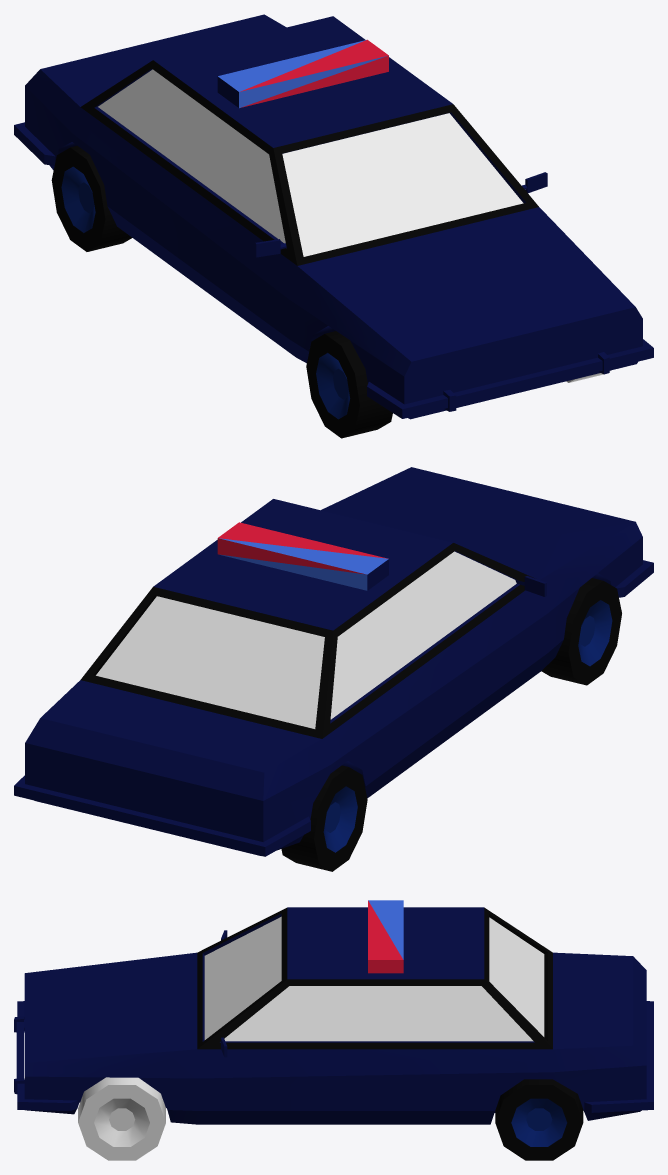
The model's file is policecar.fbx.
The picture shows the model from 3 angles, top to bottom: view 1: azimuth 30°, elevation 25°; view 2: azimuth 150°, elevation 25°; view 3: azimuth 270°, elevation 25°; orthographic projection. The views are drawn at different scales.
Parts seen in each view (by area): view 1: police_car, Object015, Object016; view 2: police_car, Object015, Object016; view 3: police_car, Object005, Object017.
Part boxes in pixels (box(x1,y1,x2,y2)): police_car: box(14, 14, 653, 419); Object015: box(306, 331, 392, 438); Object016: box(51, 145, 132, 251); police_car: box(14, 467, 653, 856); Object015: box(541, 578, 621, 685); Object016: box(281, 765, 367, 871); police_car: box(14, 900, 653, 1124); Object005: box(78, 1077, 165, 1160); Object017: box(495, 1079, 583, 1160).
Size of the model in its own units: 101 by 71.66 by 234.
